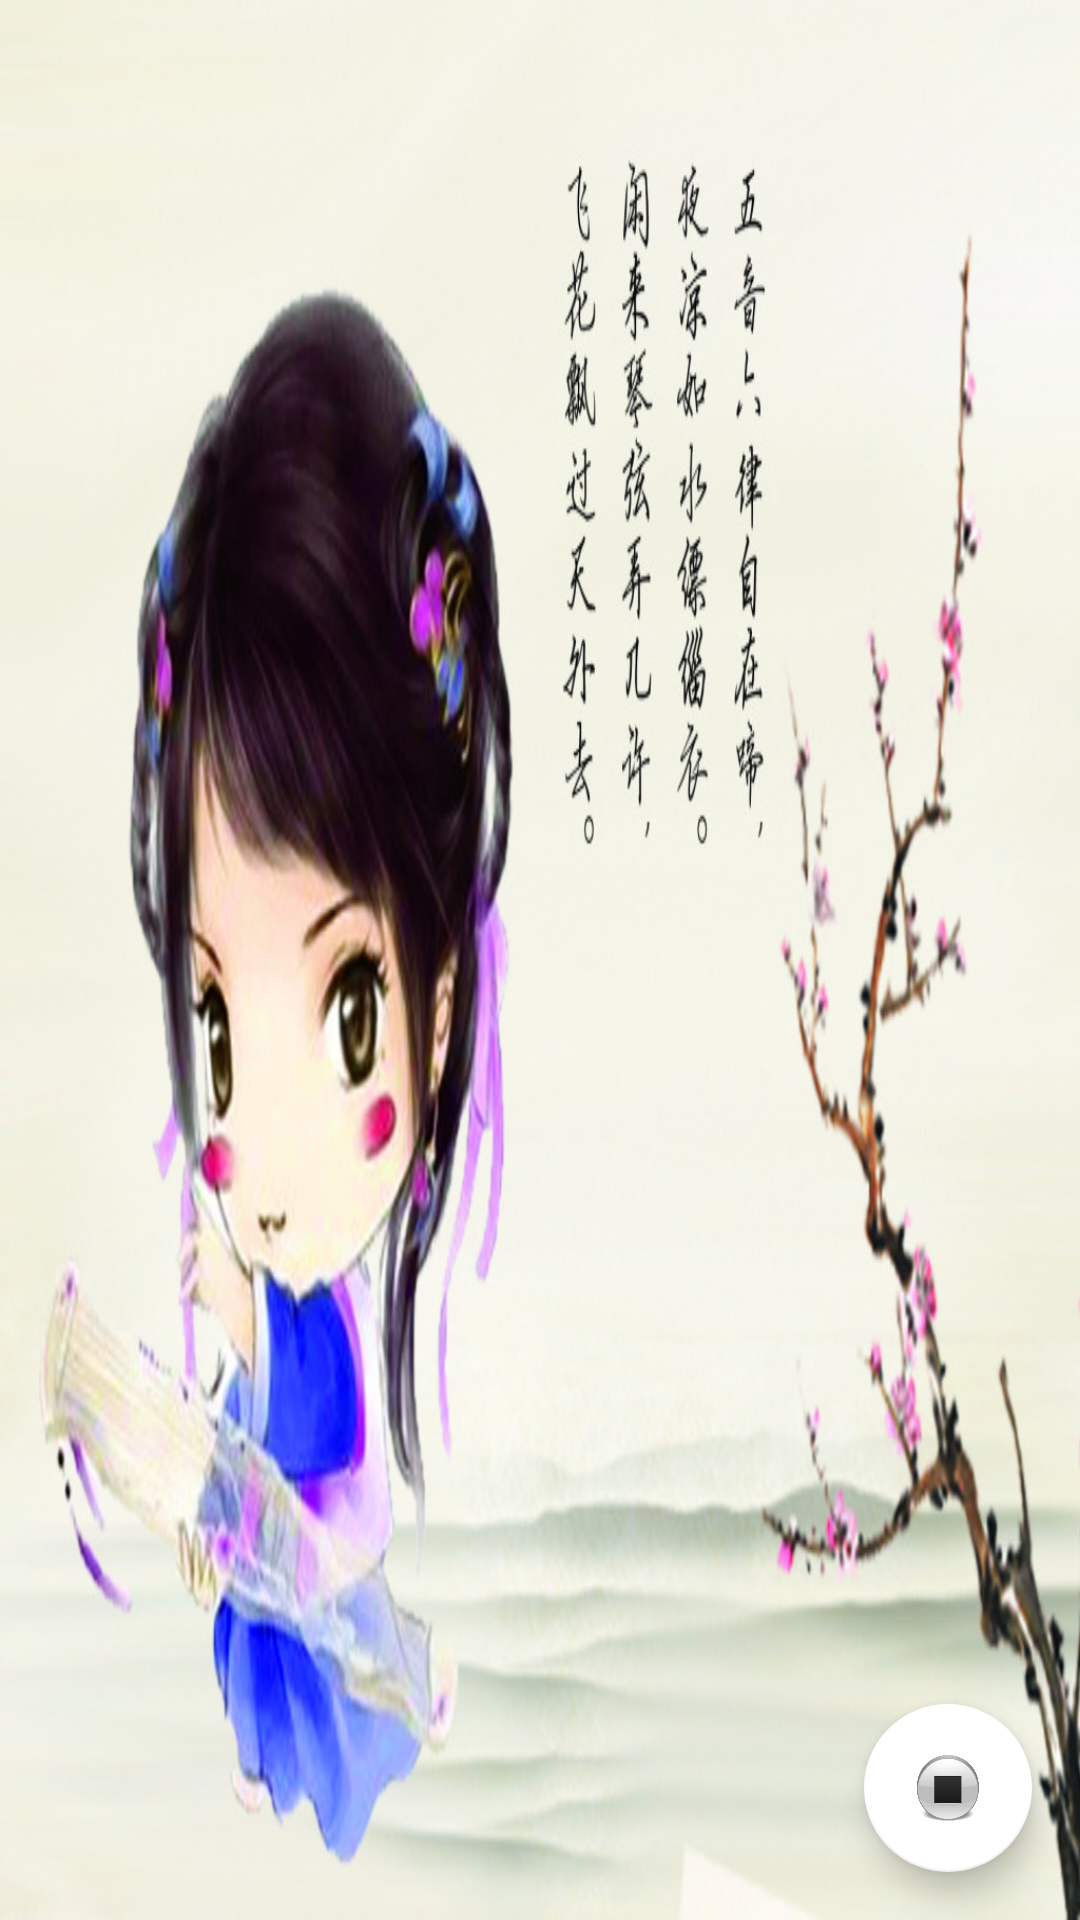

Screen size 1080x1920. Icon name, then its center in pixels as (x=x, y=y):
stop: (x=948, y=1788)
